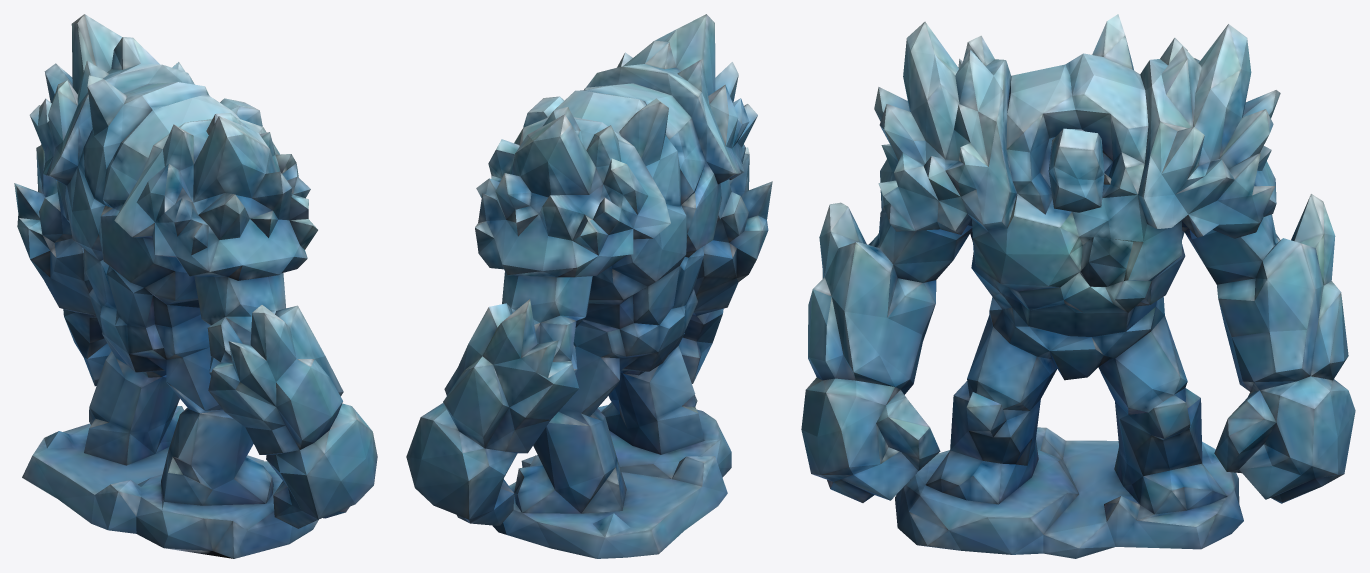
Rendered from foe_glacierGolem.glb.
3 views of the same model, side by side, from view 1: azimuth 30°, elevation 25°; view 2: azimuth 150°, elevation 25°; view 3: azimuth 270°, elevation 25° (orthographic). The views are drawn at different scales.
Visible parts, largest first — view 1: tripo_node_f9c9944a-21af-4c1d-878e-b87161761d35.001; view 2: tripo_node_f9c9944a-21af-4c1d-878e-b87161761d35.001; view 3: tripo_node_f9c9944a-21af-4c1d-878e-b87161761d35.001.
Boxes of the visible parts, x1,y1,x2,y2 form: tripo_node_f9c9944a-21af-4c1d-878e-b87161761d35.001: (14, 14, 377, 558); tripo_node_f9c9944a-21af-4c1d-878e-b87161761d35.001: (406, 14, 772, 558); tripo_node_f9c9944a-21af-4c1d-878e-b87161761d35.001: (801, 14, 1355, 558).
Bounding box in the file's own units: 0.4539 × 0.9461 × 0.9988.
Materials: 1 (1 with a texture image).
